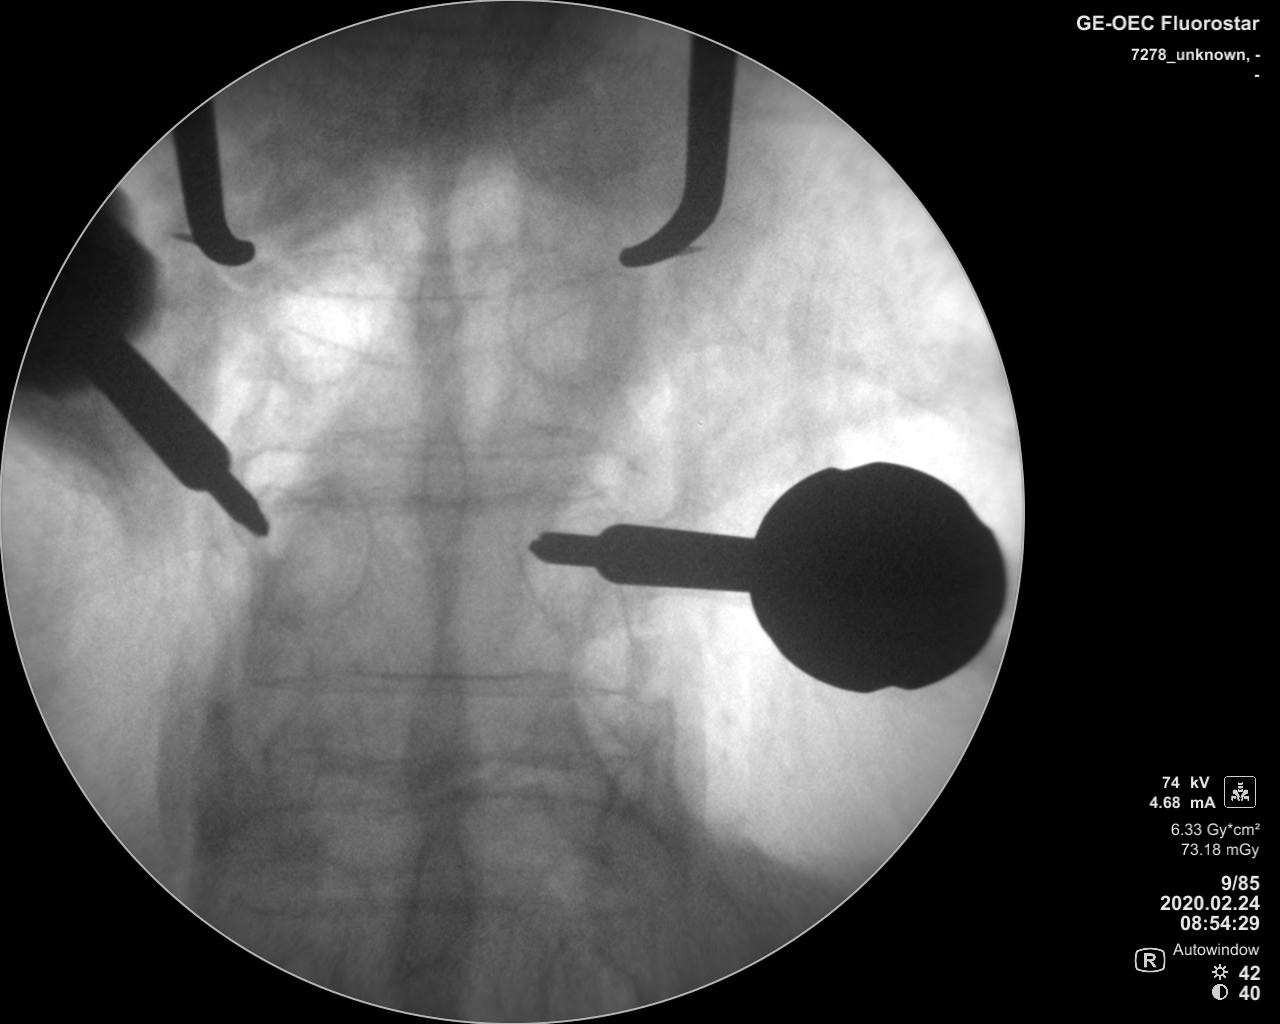eyes: (256, 467, 365, 636), (507, 263, 629, 389), (266, 255, 370, 391)
line: (266, 256, 615, 378), (251, 658, 646, 713), (261, 424, 633, 467), (258, 478, 625, 514)
nose: (393, 624, 478, 800), (392, 818, 480, 978), (398, 217, 466, 365), (411, 410, 470, 569)
